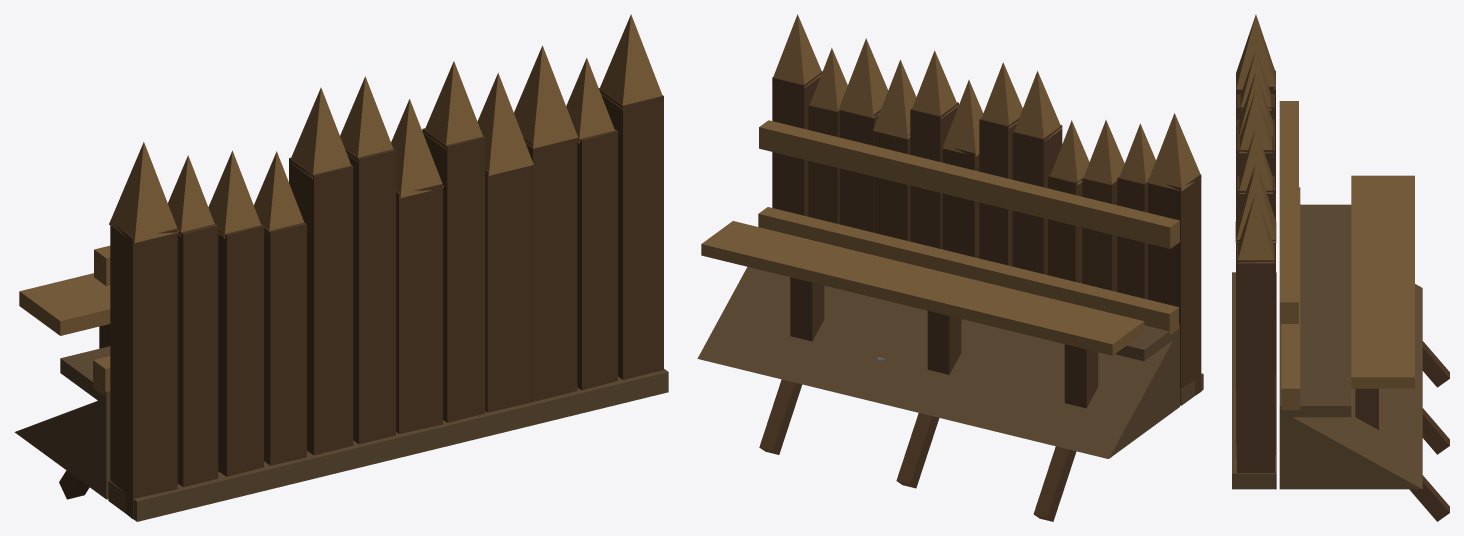
File: palisade_segment.glb
The picture shows the model from 3 angles, left to right: view 1: azimuth 30°, elevation 25°; view 2: azimuth 150°, elevation 25°; view 3: azimuth 270°, elevation 25°; orthographic projection. The views are drawn at different scales.
Visible parts, largest first — view 1: timber, timber_light, dirt; view 2: timber_light, timber, dirt; view 3: timber_light, dirt, timber.
Boxes of the visible parts, <box> form: timber: <box>59,88,663,519</box>; timber_light: <box>19,14,662,396</box>; dirt: <box>14,346,668,521</box>; timber_light: <box>701,14,1201,355</box>; timber: <box>759,71,1201,521</box>; dirt: <box>697,267,1203,458</box>; timber_light: <box>1235,14,1414,410</box>; dirt: <box>1232,204,1422,489</box>; timber: <box>1236,70,1449,521</box>.
Bounding box in the file's own units: 60.06 × 50.13 × 27.41.
